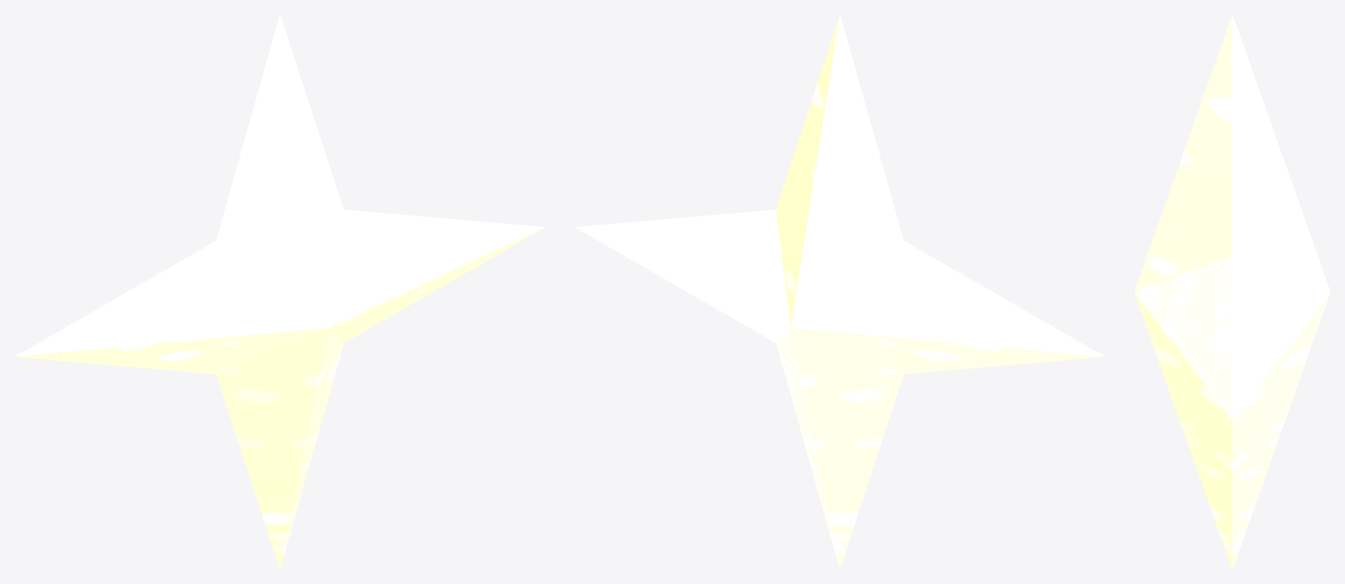
Rendered from AT_StarFragment.fbx.
3 renders of one model, left to right at view 1: azimuth 30°, elevation 25°; view 2: azimuth 150°, elevation 25°; view 3: azimuth 270°, elevation 25°, orthographic.
Visible parts, largest first — view 1: Fragment; view 2: Fragment; view 3: Fragment.
Part boxes in pixels (box(x1,y1,x2,y2)): Fragment: box(15, 15, 544, 568); Fragment: box(575, 15, 1104, 568); Fragment: box(1134, 14, 1330, 569).
Bounding box in the file's own units: 1 × 1 × 0.32.
1 material, 1 textured.
